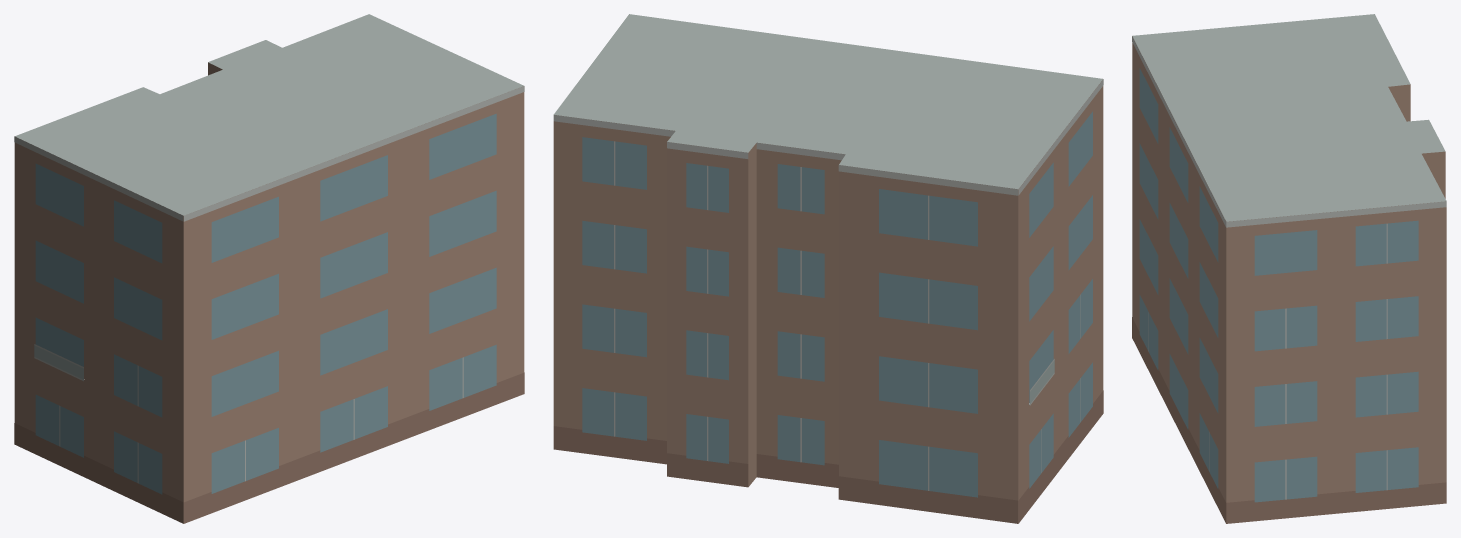
The model's file is survey-upis-32971865.glb.
3 views of the same model, side by side, from view 1: azimuth 30°, elevation 25°; view 2: azimuth 150°, elevation 25°; view 3: azimuth 270°, elevation 25° (orthographic). The views are drawn at different scales.
Parts seen in each view (by area): view 1: survey-upis-32971865.tmp; view 2: survey-upis-32971865.tmp; view 3: survey-upis-32971865.tmp.
Part boxes in pixels (box(x1,y1,x2,y2)): survey-upis-32971865.tmp: box(14, 14, 524, 523); survey-upis-32971865.tmp: box(553, 14, 1103, 523); survey-upis-32971865.tmp: box(1132, 14, 1446, 523).
Bounding box in the file's own units: 18.44 × 12.5 × 11.81.
